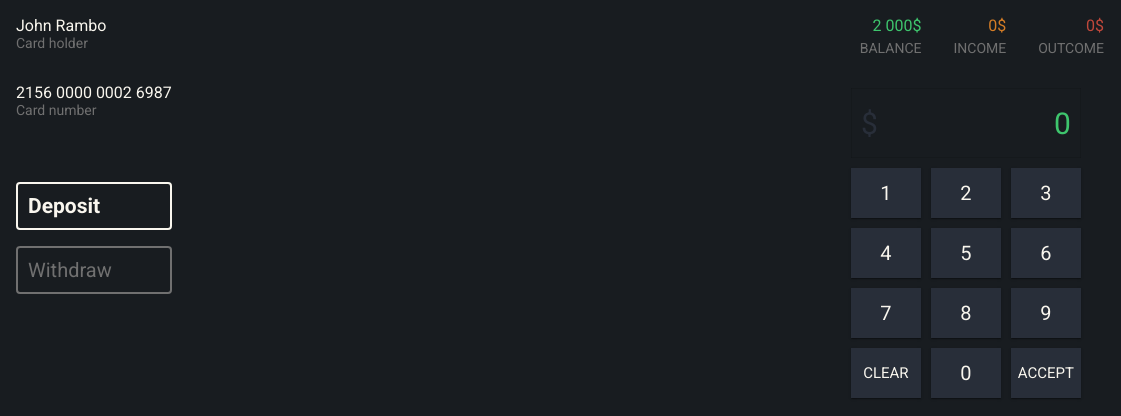
Test case: Simple tests › withdrow money
This screenshot has width=1121, height=416.
Click the button "Withdraw" at (94, 270), box x1=16 y1=246 x2=172 y2=294
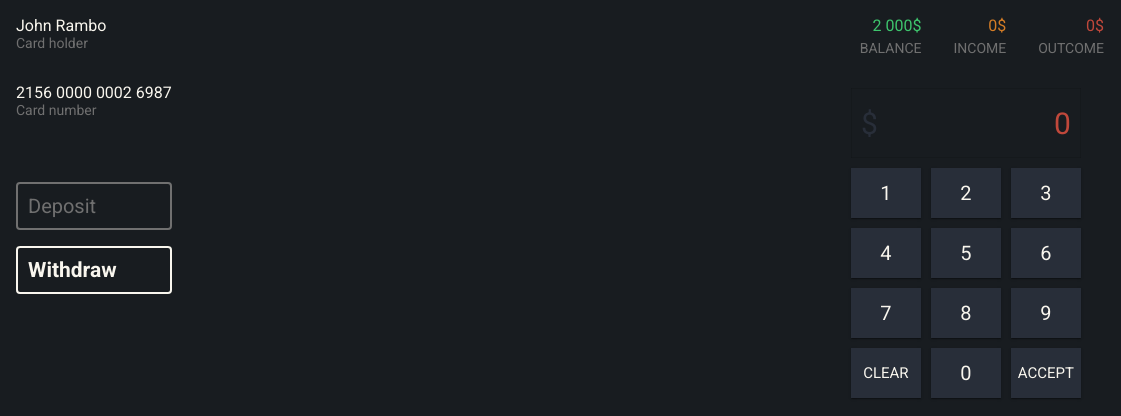
Expected: the button with test id "atm-button-0" is shown, x1=931 y1=348 x2=1001 y2=398
Expected: the button "Withdraw" has class "active", x1=16 y1=246 x2=172 y2=294
Expected: the text with test id "atm-screen" has class "red", x1=1054 y1=106 x2=1071 y2=140
Click the button with test id "atm-button-1" at (886, 193), box x1=851 y1=168 x2=921 y2=218
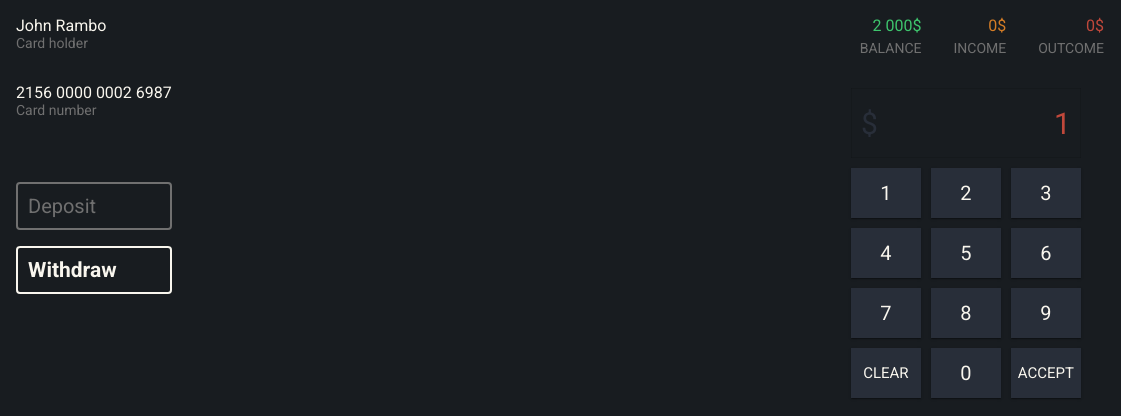
Click the button with test id "atm-button-0" at (966, 373), box x1=931 y1=348 x2=1001 y2=398
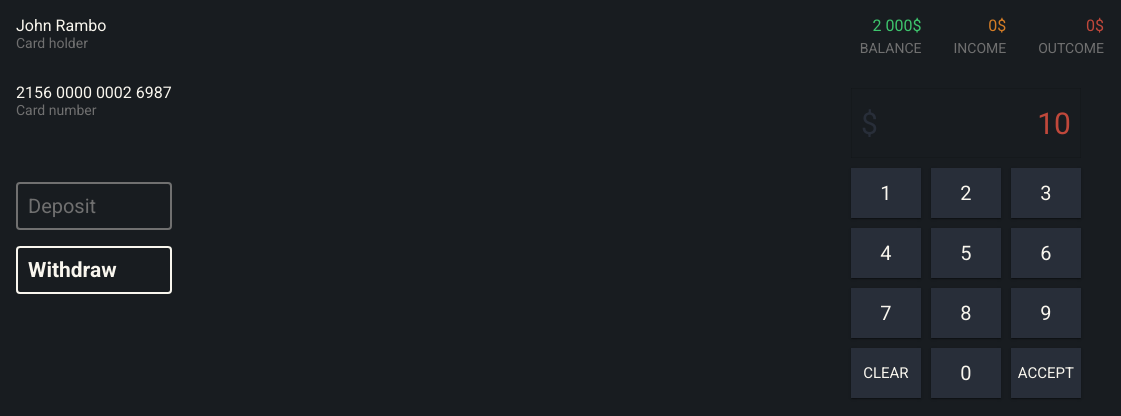
Click the button with test id "atm-button-0" at (966, 373), box x1=931 y1=348 x2=1001 y2=398
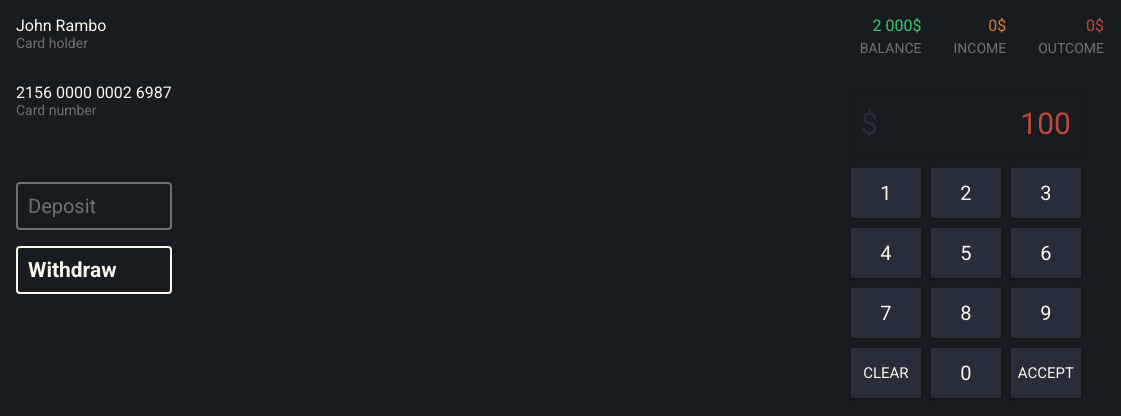
Click the button with test id "atm-button-0" at (966, 373), box x1=931 y1=348 x2=1001 y2=398
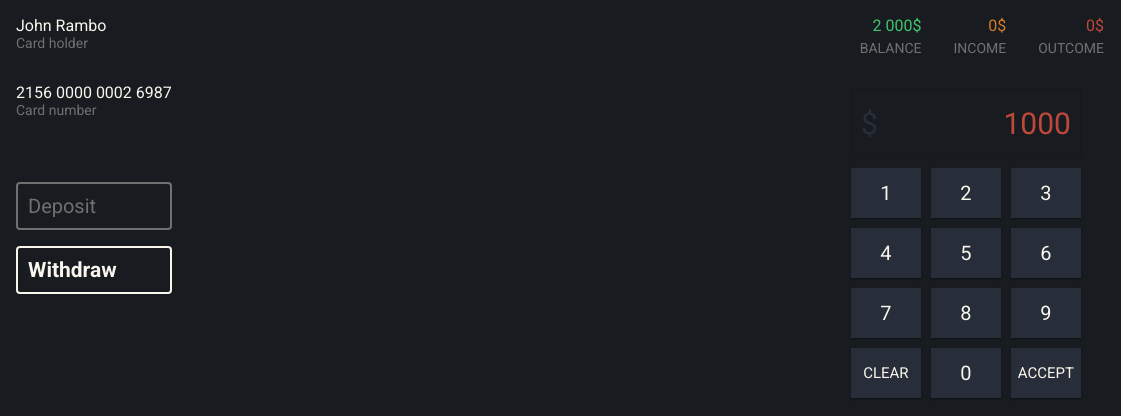
Expected: the text with test id "atm-screen" reads "1000", x1=1003 y1=106 x2=1071 y2=140
Click the button with test id "atm-button-accept" at (1046, 373), box x1=1011 y1=348 x2=1081 y2=398
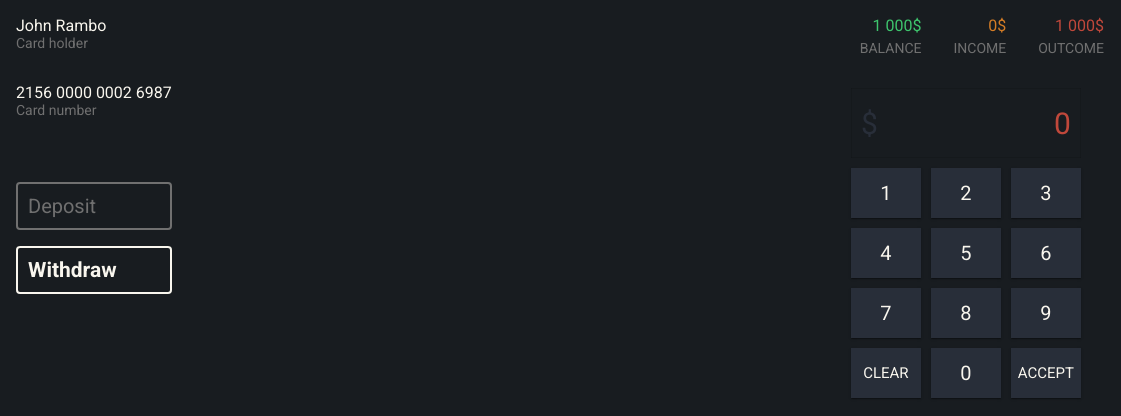
Expected: the text with test id "account-label-balance" reads "1 000$", x1=872 y1=16 x2=912 y2=35
Expected: the text with test id "account-label-outcome" reads "1 000$", x1=1055 y1=16 x2=1095 y2=35
